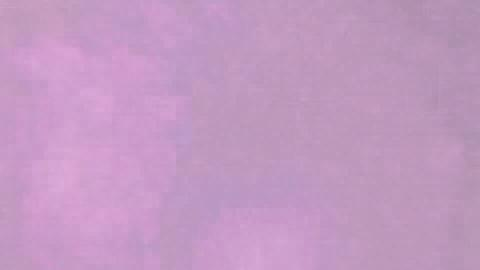tomato: (151, 126, 410, 268), (1, 116, 151, 268), (410, 119, 477, 268)
